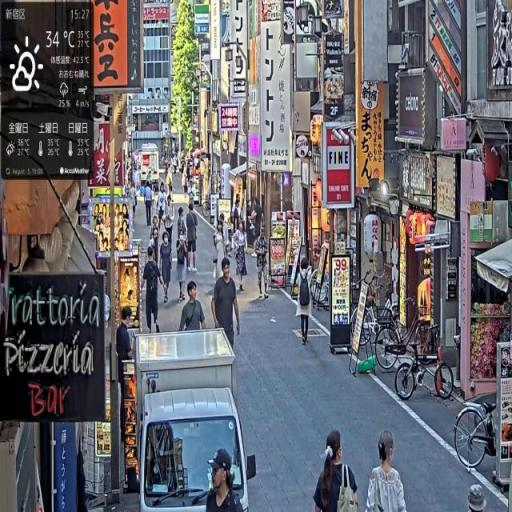person: (312, 429, 362, 512), (365, 429, 409, 512), (212, 258, 242, 350), (205, 448, 246, 512), (142, 246, 165, 336), (295, 260, 314, 349), (180, 284, 208, 333), (176, 232, 191, 306), (186, 201, 200, 275), (214, 218, 229, 284), (144, 181, 154, 228)
